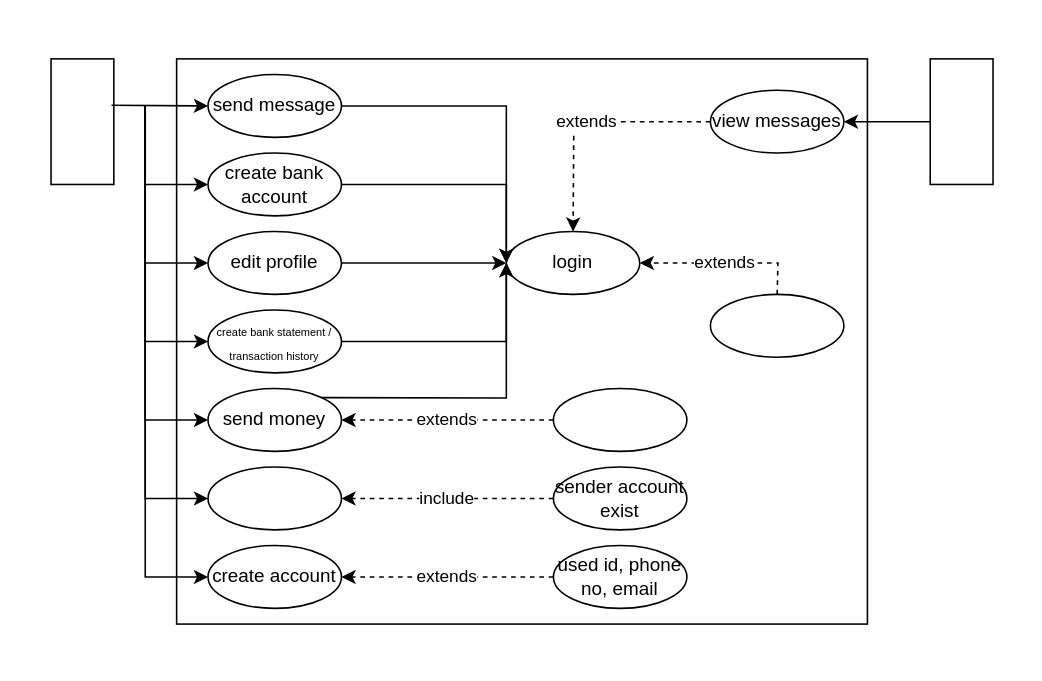
Image size: 1042x681. Some labels were removed from this diagram. Here are the shapes that lost their labels. From the top down, the centre of each, then its label:
the point at 81,120: customer
the point at 961,120: admin
the point at 776,325: invalid id or password
the point at 619,419: recipient account exist
the point at 273,498: receive money
